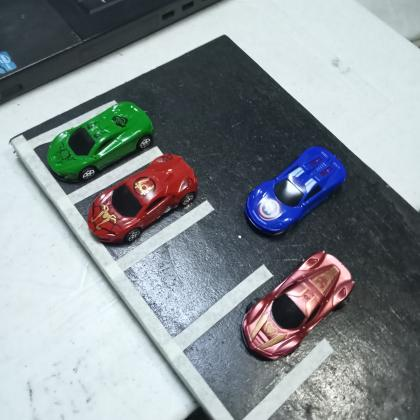Car: (240, 248, 358, 361), (86, 152, 200, 243), (244, 144, 348, 238), (46, 100, 156, 182)
